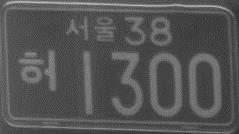0: (187, 51, 223, 120), (147, 52, 184, 118)
1: (79, 49, 98, 119)
3: (108, 50, 143, 116), (122, 15, 146, 46)
8: (150, 16, 172, 46)
서울_O: (64, 15, 117, 44)
허: (17, 48, 57, 92)
